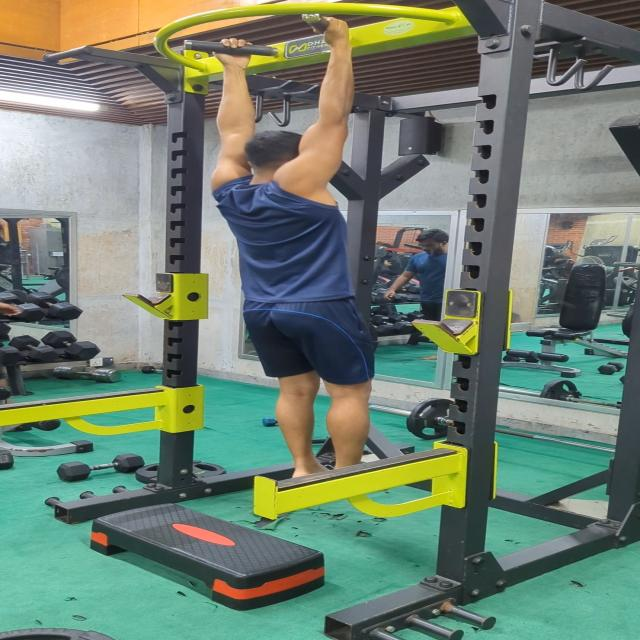Normal_PullUps: (197, 13, 378, 488)
